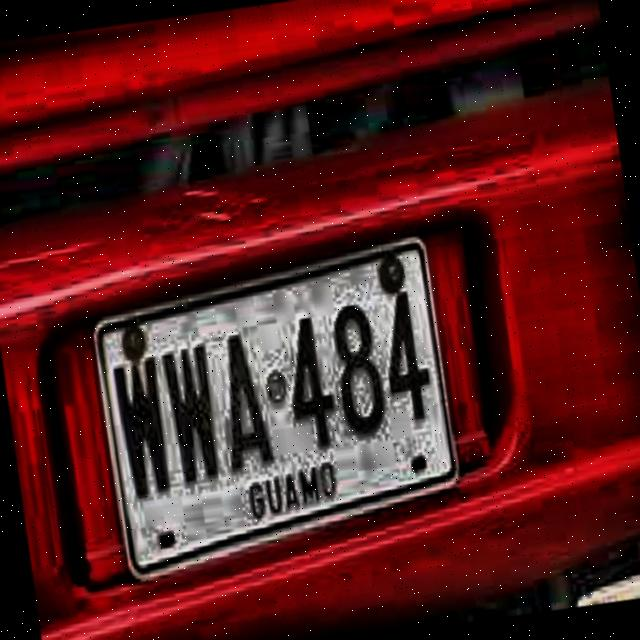plate: (96, 241, 455, 579)
